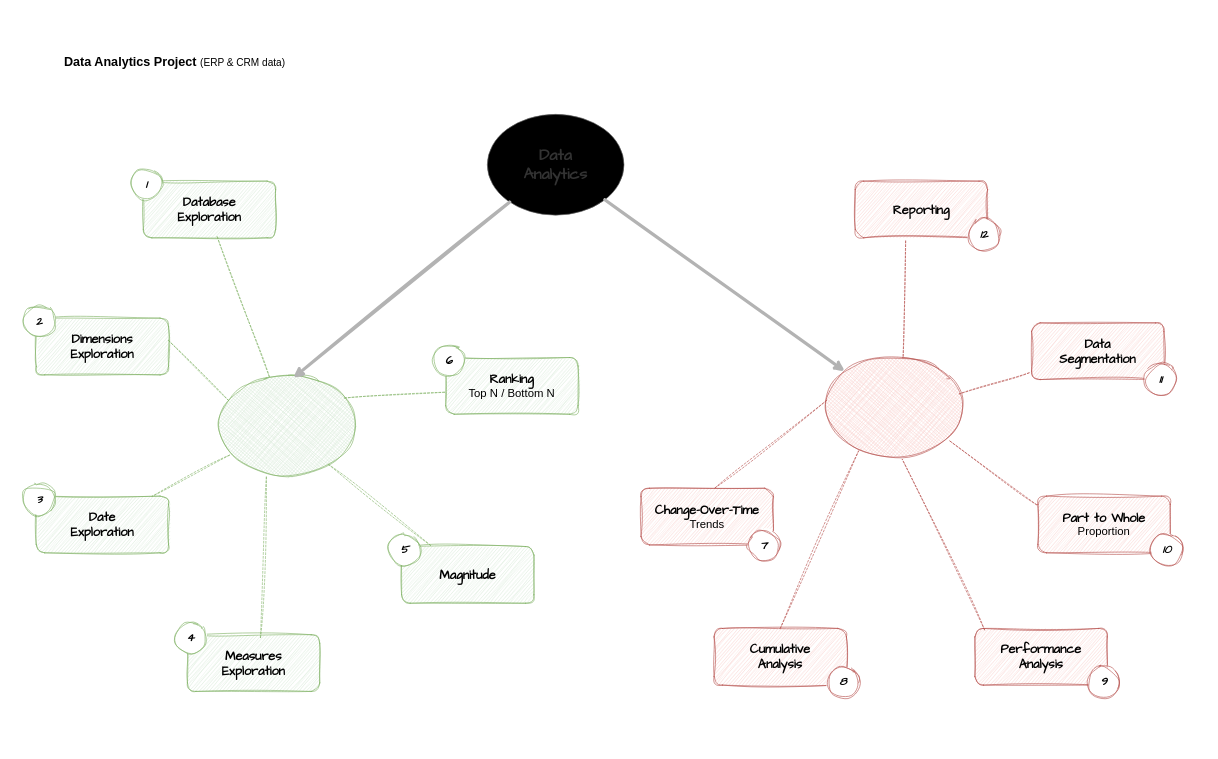
Some shapes in this 1218 by 759 pixel diagram are drawn without their labels. The centre of each missing label's shape, as x and y in pixels:
Advancded Data Analytics: point (893, 406)
Exploratory Data Analysis: point (287, 425)
